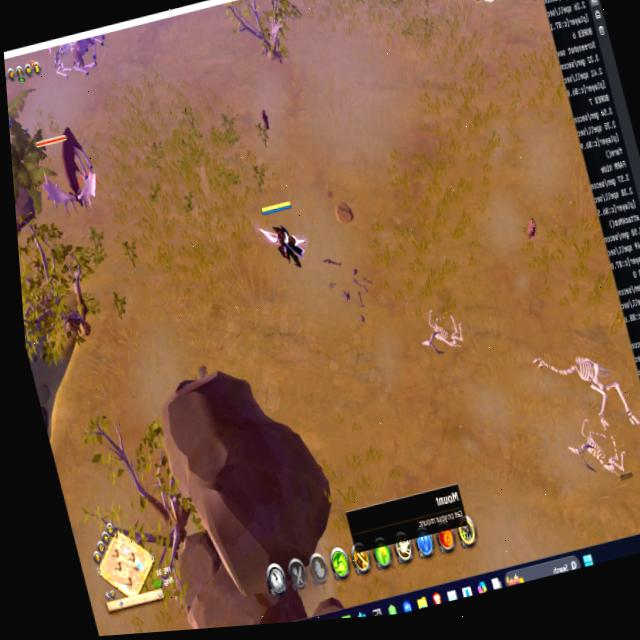mob: (66, 34, 112, 77)
ore: (26, 112, 107, 220)
red: (256, 195, 312, 277)
